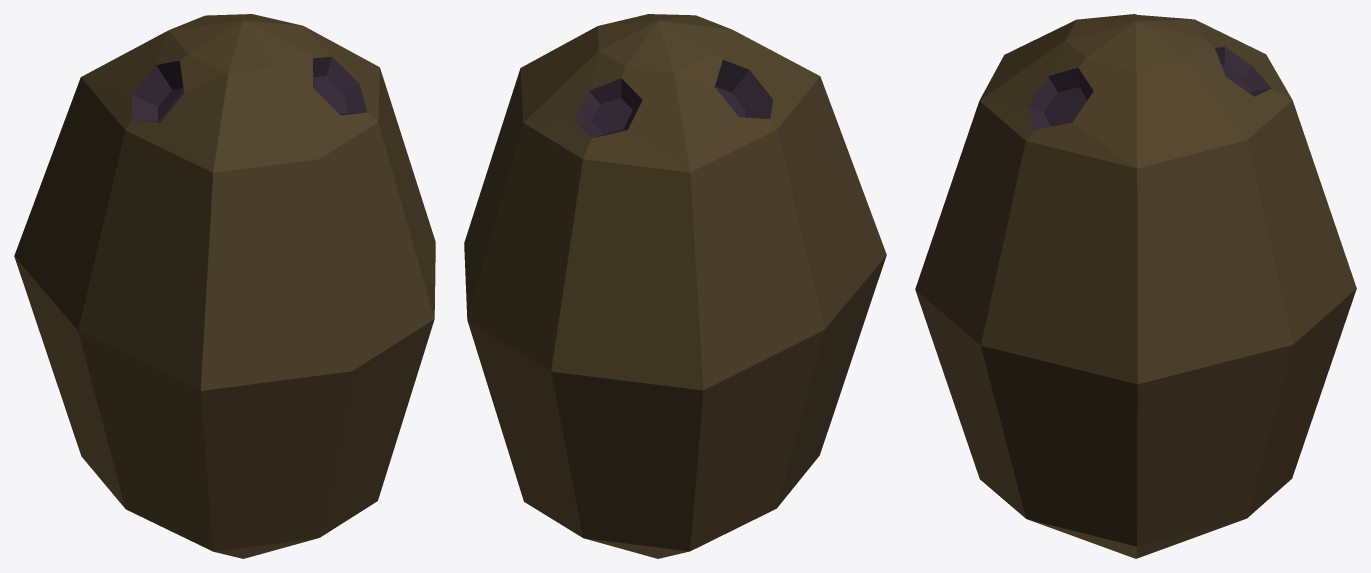
The model's file is Coconut.fbx.
The picture shows the model from 3 angles, left to right: view 1: azimuth 30°, elevation 25°; view 2: azimuth 150°, elevation 25°; view 3: azimuth 270°, elevation 25°; orthographic projection.
Parts seen in each view (by area): view 1: Coconut; view 2: Coconut; view 3: Coconut.
Part boxes in pixels (left/top/right/bottom): Coconut: left=14, top=14, right=435, bottom=558; Coconut: left=464, top=14, right=886, bottom=558; Coconut: left=915, top=14, right=1356, bottom=558.
Bounding box in the file's own units: 14.38 × 20.59 × 15.34.
